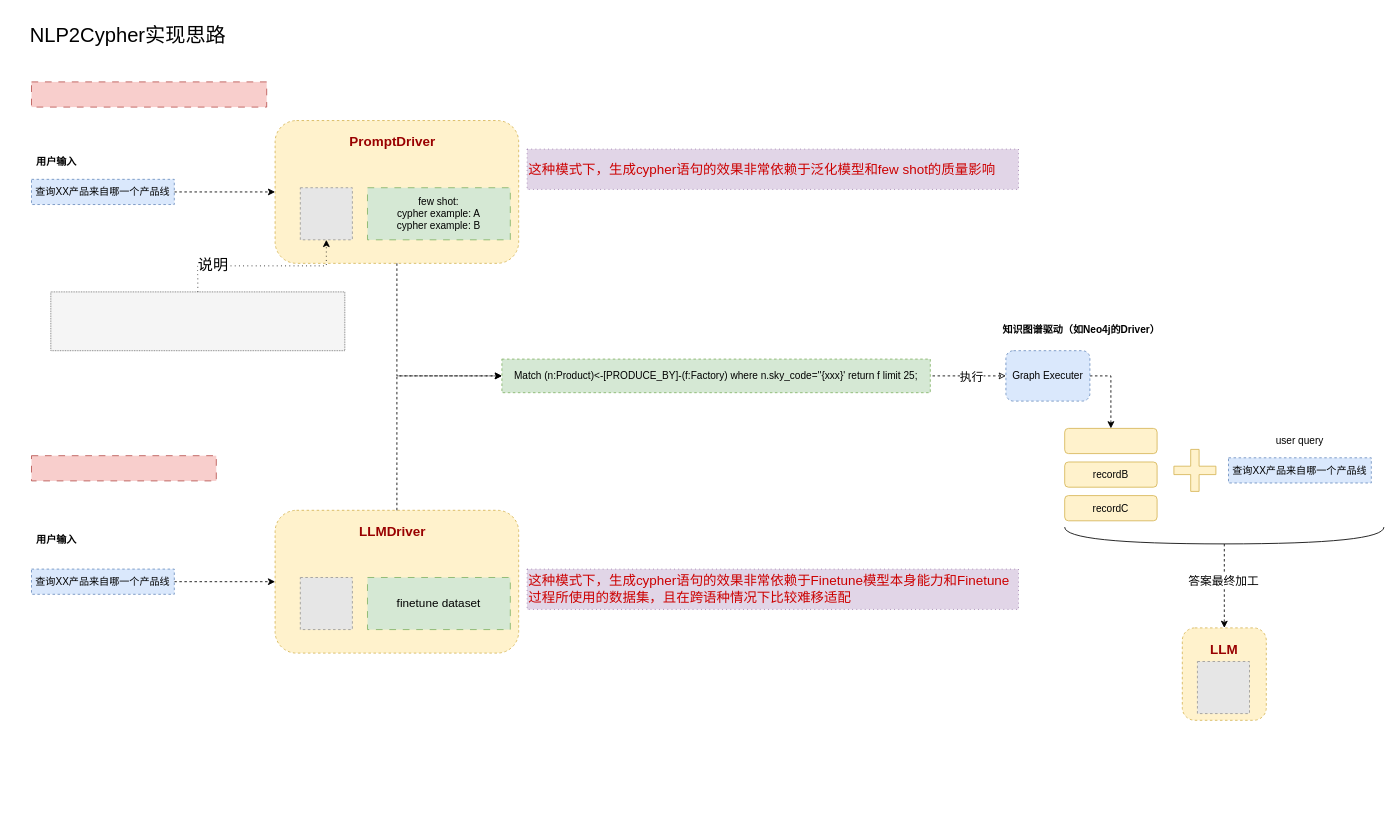
This 1399x833 diagram has some shape labels left out. Grey dashed boxes stand in for pictures. Here are the shapes that lost their labels. From the top down, the box of each, then its label:
(31, 81, 267, 107): 方案1: 基于泛化模型+few shot的驱动
(50, 291, 345, 351): 这里的模型是以OpenAI,Claude,Deepseek，Qwen为主的通用模型，也可以加入Reasoner模型进行结果校验
(1064, 428, 1157, 454): recordA
(31, 455, 216, 481): 方案2: 基于微调模型的驱动
